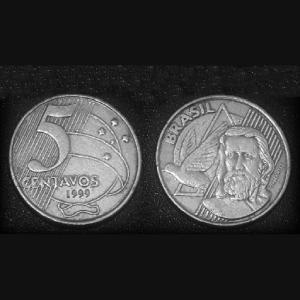5 cent: (2, 96, 144, 229), (153, 95, 292, 228)
